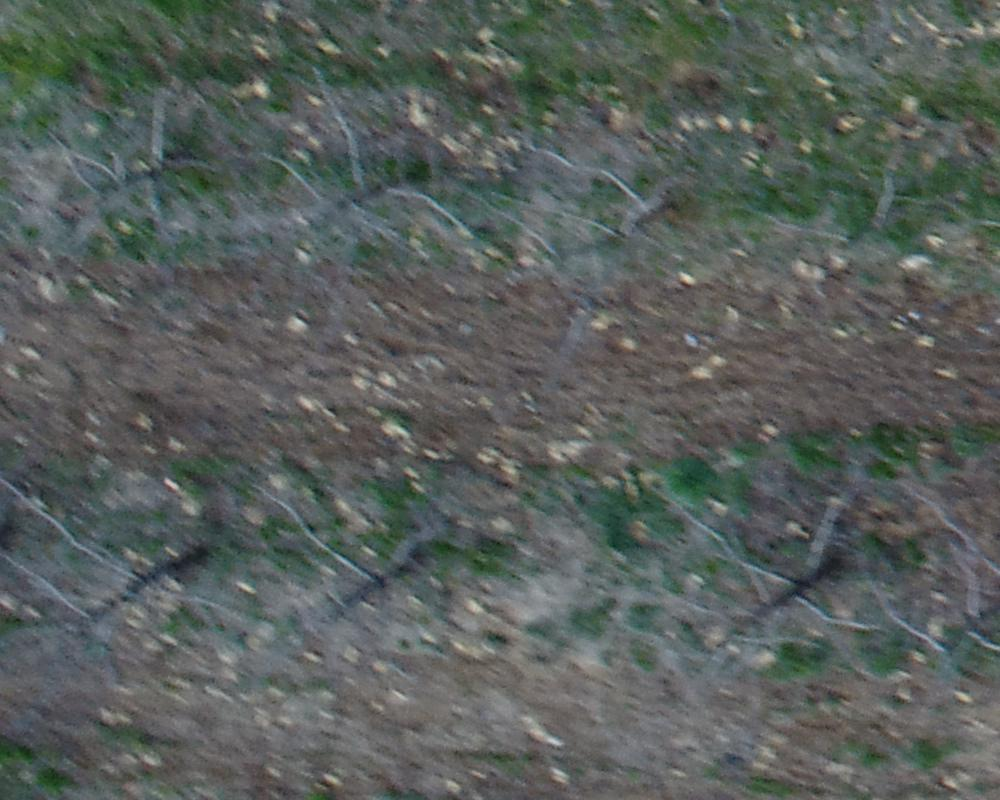apple: (258, 54, 490, 254), (658, 480, 883, 675), (11, 486, 223, 638), (256, 492, 456, 629), (875, 476, 990, 708), (49, 71, 223, 224), (765, 151, 937, 272), (550, 138, 703, 264)
